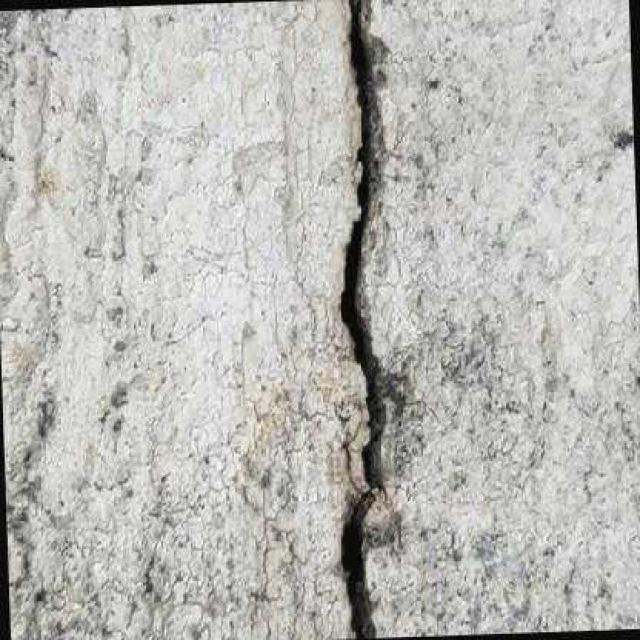D00: (339, 0, 381, 638)
